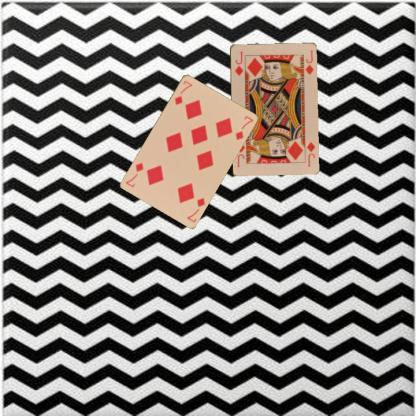7d: (184, 194, 206, 224), (172, 77, 194, 106)
Jd: (304, 139, 316, 168), (233, 48, 244, 77)
